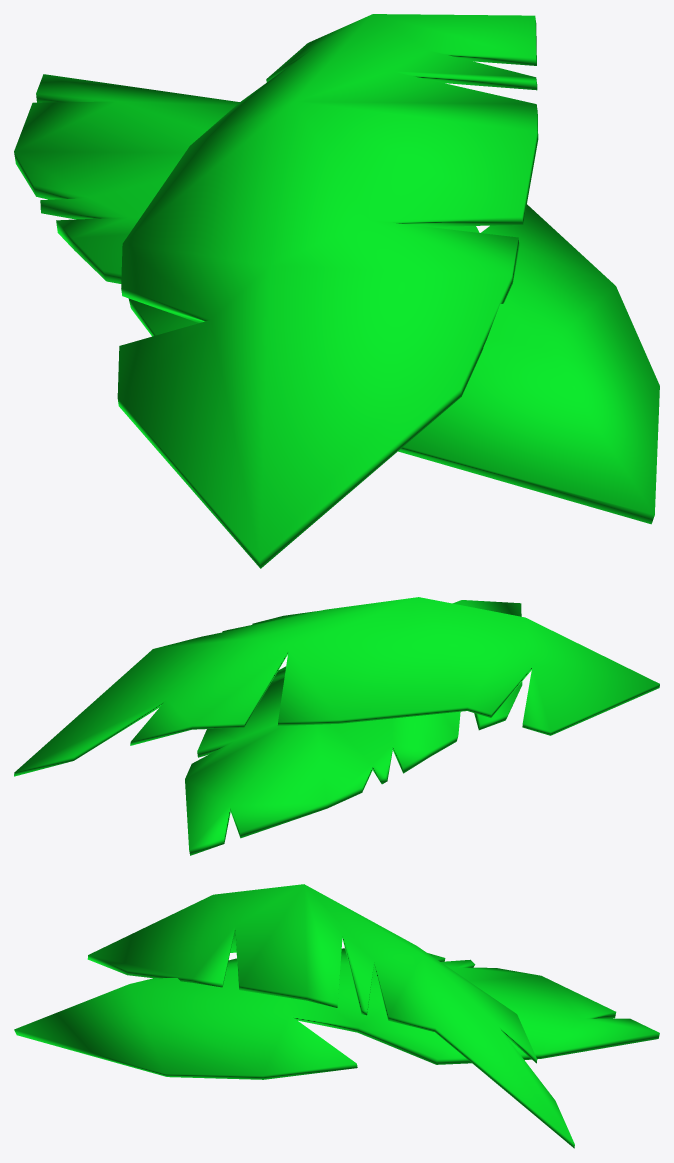
File: SM_PalmTreeLeafs_001.fbx
3 renders of one model, top to bottom at view 1: azimuth 30°, elevation 25°; view 2: azimuth 150°, elevation 25°; view 3: azimuth 270°, elevation 25°, orthographic. The views are drawn at different scales.
Parts seen in each view (by area): view 1: Plane; view 2: Plane; view 3: Plane.
Boxes of the visible parts, x1,y1,x2,y2 form: Plane: (14, 14, 659, 568); Plane: (14, 597, 659, 855); Plane: (14, 884, 659, 1148).
Bounding box in the file's own units: 58 × 19.98 × 84.35.
